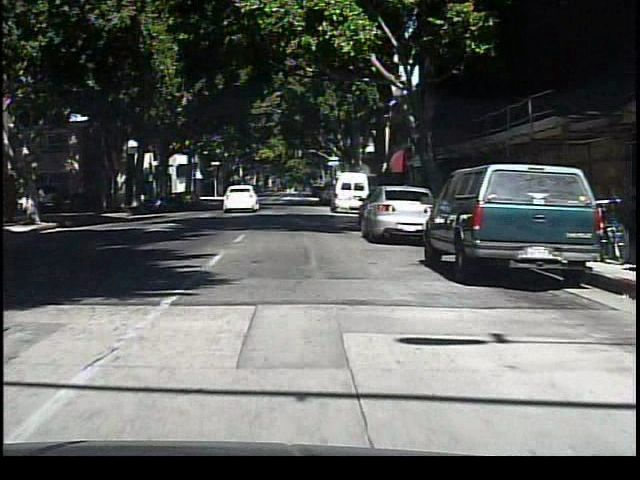person: (292, 176, 310, 206)
